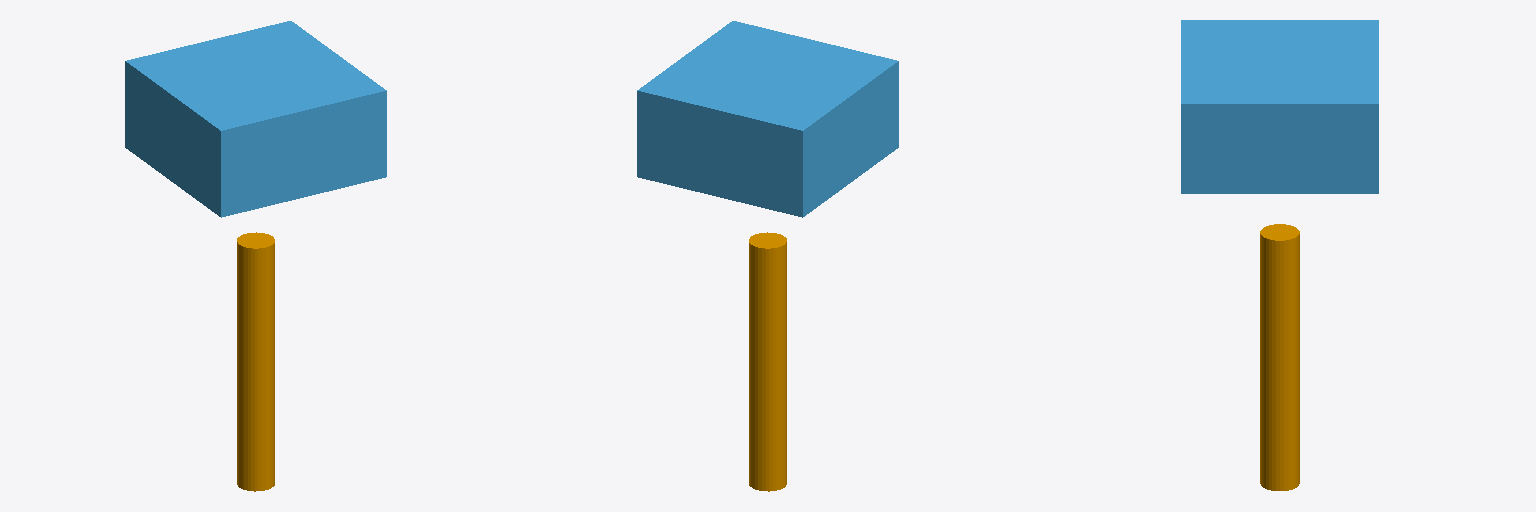
robot.urdf — hammer:
<?xml version="1.0" ?>
<!-- =================================================================================== -->
<!-- |    This document was autogenerated by xacro from hammer.xacro                   | -->
<!-- |    EDITING THIS FILE BY HAND IS NOT RECOMMENDED                                 | -->
<!-- =================================================================================== -->
<robot name="hammer" xmlns:xacro="http://www.ros.org/wiki/xacro">
  <!--xacro:macro name="hammer"-->
  <link name="hammer_handle_link">
    <visual>
      <origin rpy="0 0 0" xyz="0 0 0"/>
      <geometry>
        <cylinder length="0.28" radius="0.02"/>
      </geometry>
    </visual>
  </link>
  <link name="hammer_mass_link">
    <visual>
      <origin rpy="0 0 0" xyz="0 0 0"/>
      <geometry>
        <box size="0.2 0.2 0.1 "/>
      </geometry>
    </visual>
  </link>
  <joint name="joint_handle_mass" type="fixed">
    <origin rpy="0 0 0" xyz="0 0 0.28"/>
    <parent link="hammer_handle_link"/>
    <child link="hammer_mass_link"/>
  </joint>
  <!--/xacro:macro-->
  <!--xacro:hammer/-->
</robot>

--- What the picture shows (computed from the rendered views, not written in the file) ---
The picture shows the robot from 3 angles, left to right: view 1: azimuth 30°, elevation 25°; view 2: azimuth 150°, elevation 25°; view 3: azimuth 270°, elevation 25°; orthographic projection.
Model hammer with 2 links and 1 joints (1 fixed), rooted at hammer_handle_link, posed all joints at 0.
Visible links, largest first — view 1: hammer_mass_link, hammer_handle_link; view 2: hammer_mass_link, hammer_handle_link; view 3: hammer_mass_link, hammer_handle_link.
Link boxes in pixels (x1,y1,x2,y2): hammer_mass_link: (125, 21, 386, 217); hammer_handle_link: (237, 232, 274, 491); hammer_mass_link: (637, 21, 898, 217); hammer_handle_link: (749, 232, 786, 491); hammer_mass_link: (1181, 20, 1378, 193); hammer_handle_link: (1260, 224, 1299, 490).
Bounding box of the posed robot: 0.2 × 0.2 × 0.47 m (x, y, z).
Geometry: primitives only (box / cylinder / sphere), no mesh files.